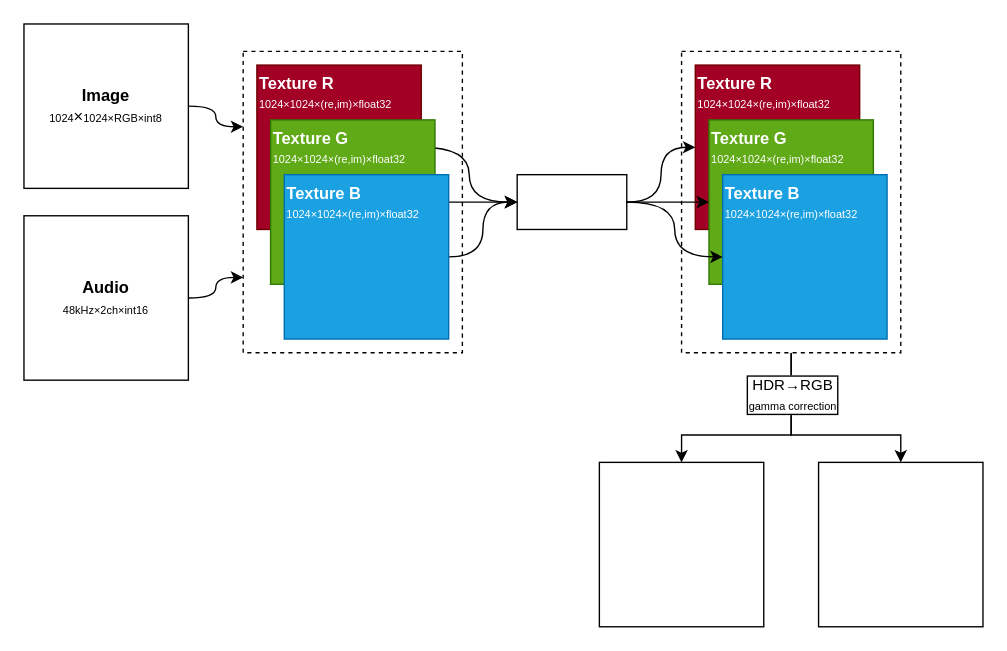
This 1007x651 diagram has some shape labels left out. The centre of each missing label's shape, as x and y in pixels:
EXR 1024 × 1024 ×BGR×float32: point (900, 544)
FFT bgthread.js: point (571, 201)
PNG 1024 × 1024 ×RGB×int16: point (681, 544)
